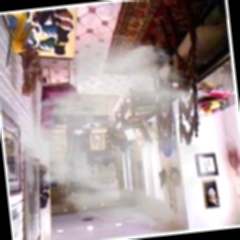smoke: (69, 57, 167, 158)
